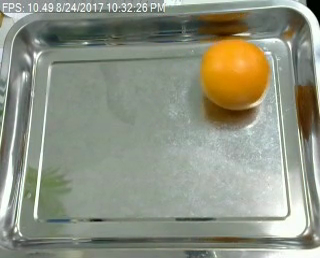Orange: (199, 38, 271, 110)
